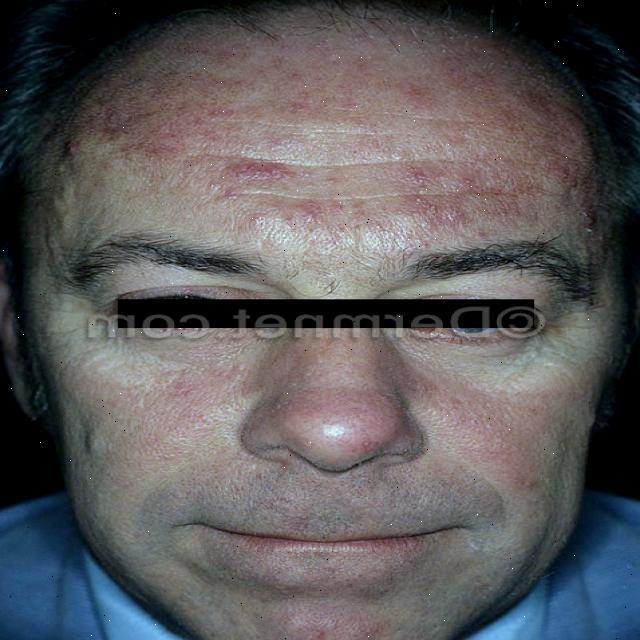skinredness: (0, 42, 638, 246)
